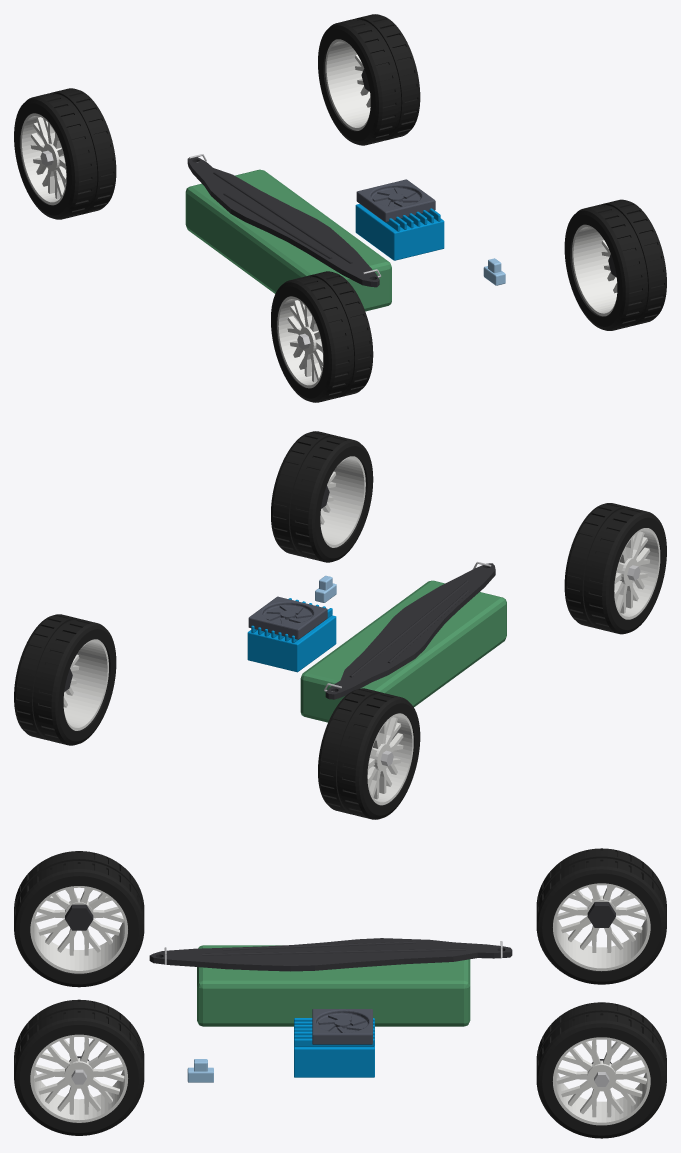
File: hsp_E.glb
3 renders of one model, top to bottom at view 1: azimuth 30°, elevation 25°; view 2: azimuth 150°, elevation 25°; view 3: azimuth 270°, elevation 25°, orthographic. The views are drawn at different scales.
Parts seen in each view (by area): view 1: n6, n27, n26, n25, n24, n16, n17, n13, n12, n14, n15, n18; view 2: n6, n26, n27, n24, n25, n16, n17, n12, n13, n14, n15, n18; view 3: n6, n16, n25, n24, n27, n26, n15, n14, n13, n12, n17, n18 (+4 smaller).
Boxes of the visible parts, x1,y1,x2,y2 form: n6: (185, 169, 391, 311); n27: (318, 14, 420, 145); n26: (564, 199, 666, 330); n25: (14, 88, 116, 219); n24: (271, 271, 373, 402); n16: (187, 157, 379, 287); n17: (355, 204, 444, 260); n13: (20, 113, 66, 205); n12: (277, 296, 323, 388); n14: (572, 224, 617, 316); n15: (325, 39, 370, 130); n18: (356, 179, 435, 222); n6: (300, 580, 506, 722); n26: (271, 431, 373, 562); n27: (14, 614, 116, 745); n24: (564, 503, 666, 634); n25: (318, 688, 420, 819); n16: (325, 563, 495, 699); n17: (247, 598, 336, 672); n12: (614, 528, 660, 619); n13: (367, 713, 413, 805); n14: (320, 456, 365, 547); n15: (63, 639, 108, 730); n18: (248, 596, 327, 639); n6: (197, 945, 470, 1026); n16: (149, 938, 512, 971); n25: (536, 848, 666, 984); n24: (14, 851, 144, 987); n27: (536, 1002, 666, 1138); n26: (14, 999, 144, 1135); n15: (552, 1037, 650, 1125); n14: (30, 1034, 128, 1122); n13: (553, 883, 650, 971); n12: (30, 886, 127, 973); n17: (294, 1018, 374, 1077); n18: (312, 1009, 372, 1044).
Bounding box in the file's own units: 0.206 × 0.0645 × 0.3228.
